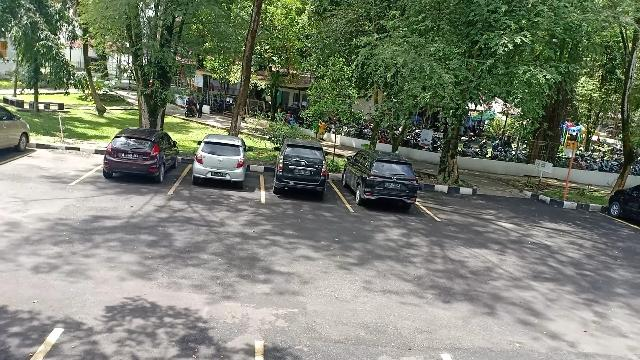empty: (7, 145, 97, 185)
occupied: (91, 144, 183, 194), (339, 164, 428, 214), (182, 154, 264, 202), (261, 159, 337, 203)
